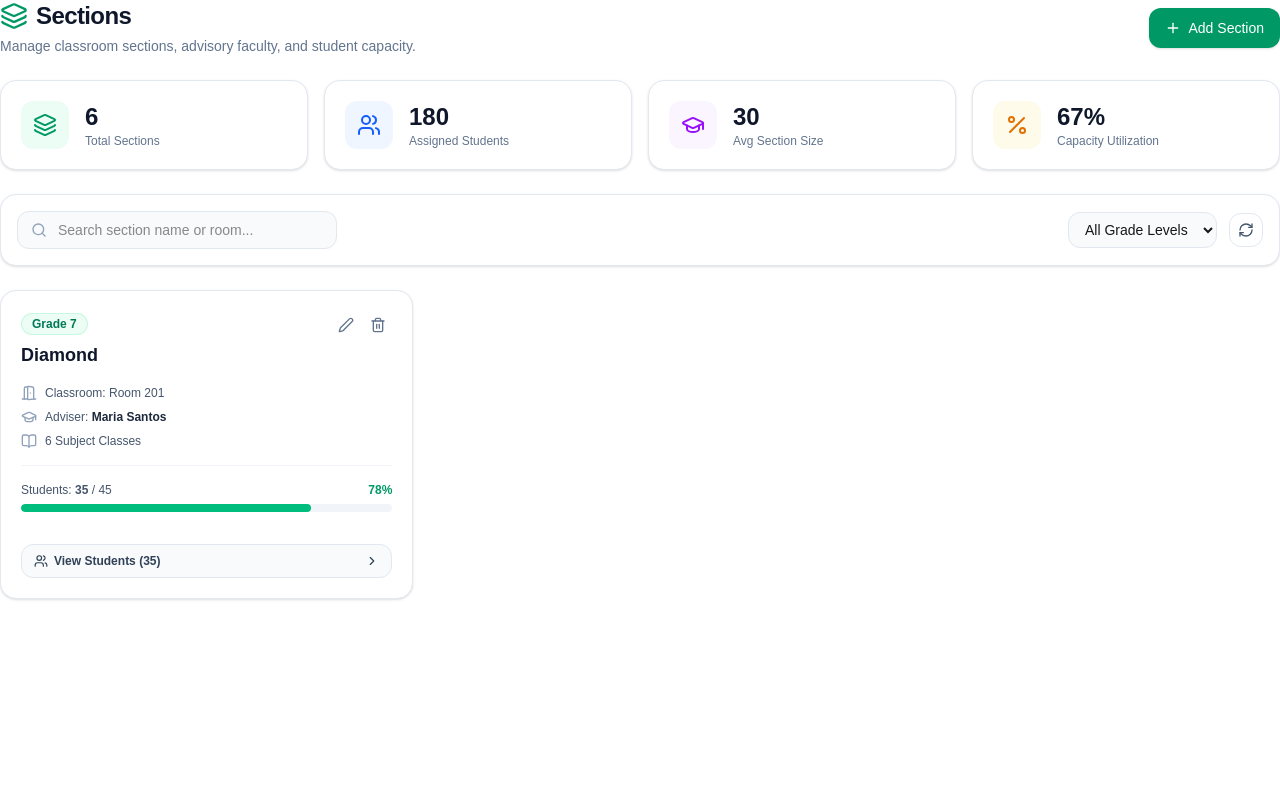
Test case: SectionsPage › opens Add Section modal when clicking action button
Click the button "Add Section" at (1214, 28), box [1148,8,1279,48]
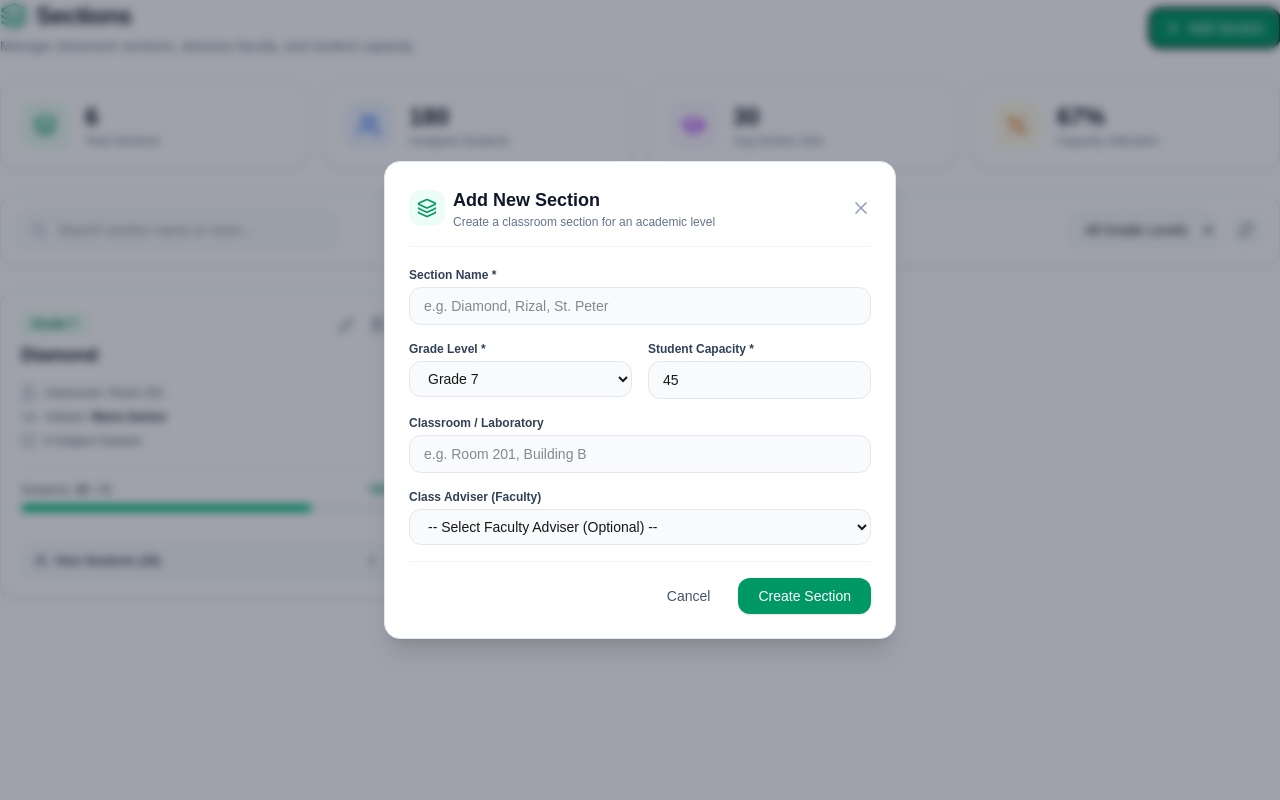
Check: the heading "Add New Section" is shown, box [453,190,600,210]
Check: the button "Create Section" is shown, box [738,578,871,614]
